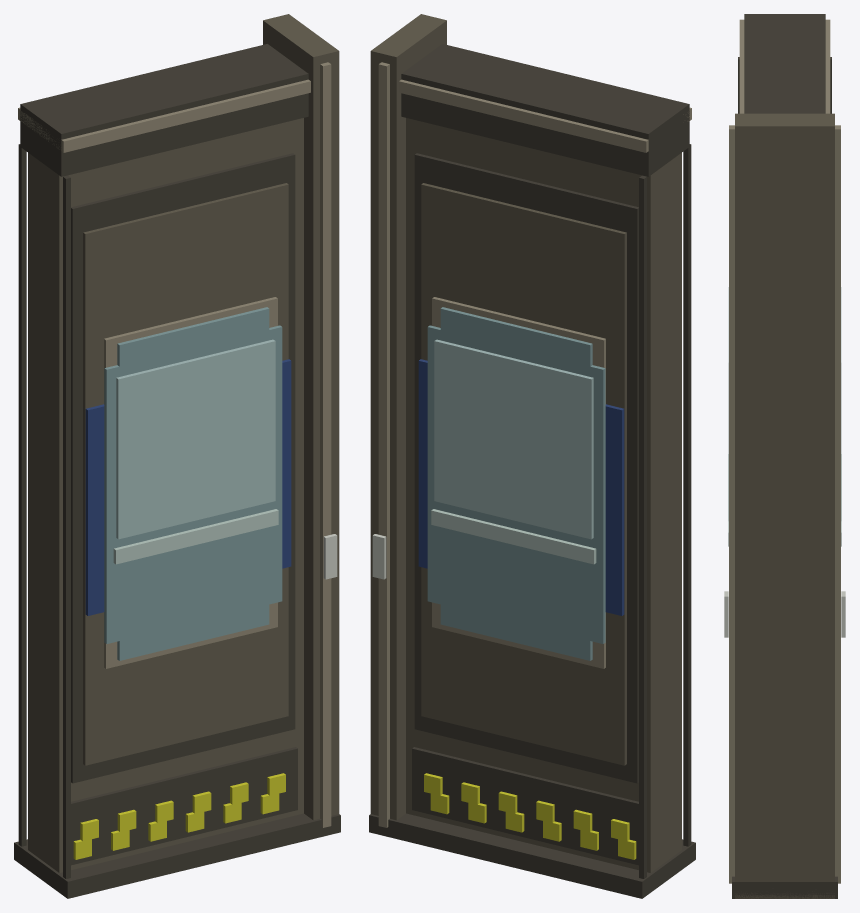
Rendered from CMU3DPairedCommandGovforGlass.glb.
3 renders of one model, left to right at view 1: azimuth 30°, elevation 25°; view 2: azimuth 150°, elevation 25°; view 3: azimuth 270°, elevation 25°, orthographic.
Parts seen in each view (by area): view 1: inner face panel, single closed door leaf, pale upper reflection, chamfered window center, outer door jamb, leaf recessed face, continuous top track, meeting edge seal (×2), lower hazard band, outer jamb highlight, threshold, department face band (+6 smaller); view 2: inner face panel back, single closed door leaf, pale upper reflection back, chamfered window center back, outer door jamb, leaf recessed face back, continuous top track, meeting edge seal (×2), lower hazard band back, outer jamb highlight, threshold, department face band back (+6 smaller); view 3: outer door jamb, outer jamb highlight (×2), continuous top track, threshold, top track lip.
Boxes of the visible parts, x1=… form: inner face panel: x1=83, y1=183, x2=288, y2=765; single closed door leaf: x1=28, y1=118, x2=303, y2=872; pale upper reflection: x1=116, y1=339, x2=275, y2=539; chamfered window center: x1=104, y1=325, x2=282, y2=643; outer door jamb: x1=263, y1=14, x2=339, y2=820; leaf recessed face: x1=71, y1=153, x2=295, y2=783; continuous top track: x1=20, y1=44, x2=308, y2=176; meeting edge seal (×2): x1=18, y1=144, x2=70, y2=878; lower hazard band: x1=71, y1=747, x2=297, y2=865; outer jamb highlight: x1=320, y1=62, x2=331, y2=827; threshold: x1=14, y1=813, x2=340, y2=898; department face band: x1=85, y1=359, x2=291, y2=615; inner face panel back: x1=421, y1=183, x2=626, y2=765; single closed door leaf: x1=406, y1=118, x2=681, y2=872; pale upper reflection back: x1=434, y1=339, x2=593, y2=539; chamfered window center back: x1=427, y1=325, x2=605, y2=643; outer door jamb: x1=370, y1=14, x2=446, y2=820; leaf recessed face back: x1=414, y1=153, x2=638, y2=783; continuous top track: x1=401, y1=44, x2=689, y2=176; meeting edge seal (×2): x1=639, y1=144, x2=691, y2=878; lower hazard band back: x1=412, y1=747, x2=638, y2=865; outer jamb highlight: x1=378, y1=62, x2=389, y2=827; threshold: x1=369, y1=813, x2=695, y2=898; department face band back: x1=418, y1=359, x2=624, y2=615; outer door jamb: x1=735, y1=113, x2=834, y2=898; outer jamb highlight (×2): x1=729, y1=125, x2=840, y2=883; continuous top track: x1=744, y1=14, x2=825, y2=113; threshold: x1=732, y1=876, x2=837, y2=898; top track lip: x1=739, y1=19, x2=830, y2=113.
Bounding box in the file's own units: 1 × 2.73 × 0.388.
